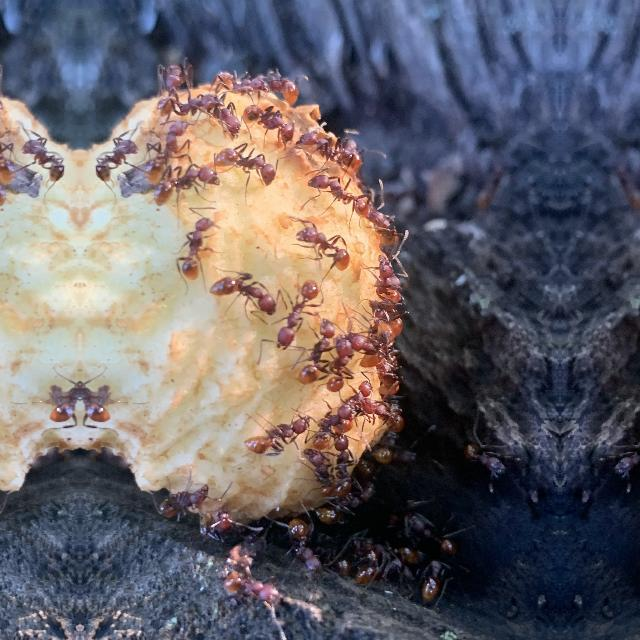Apheanogaster: (208, 261, 282, 321), (270, 270, 324, 352), (238, 403, 310, 463), (296, 114, 368, 174), (305, 164, 373, 226), (210, 134, 282, 192), (416, 530, 468, 610), (294, 210, 356, 274), (147, 157, 221, 210), (172, 206, 218, 286), (352, 187, 410, 250), (153, 469, 215, 526), (85, 123, 138, 189), (138, 116, 190, 182), (218, 561, 284, 613), (22, 123, 74, 189), (146, 48, 192, 122), (458, 428, 514, 488), (299, 312, 341, 390), (184, 87, 244, 139), (283, 512, 325, 584), (238, 98, 298, 148), (399, 506, 461, 554), (247, 57, 306, 107), (357, 382, 411, 436), (352, 552, 421, 594), (310, 532, 358, 590), (369, 248, 411, 310), (301, 403, 343, 465), (350, 528, 420, 564), (467, 162, 515, 214), (80, 362, 114, 433), (46, 362, 80, 433), (316, 336, 356, 394), (329, 422, 359, 498), (300, 444, 340, 498), (190, 505, 236, 551), (352, 452, 386, 514), (606, 427, 640, 488), (372, 431, 428, 467), (372, 296, 408, 350), (604, 160, 640, 213), (349, 322, 385, 372), (316, 494, 364, 526), (0, 115, 20, 180), (377, 346, 401, 400), (0, 48, 14, 120)
